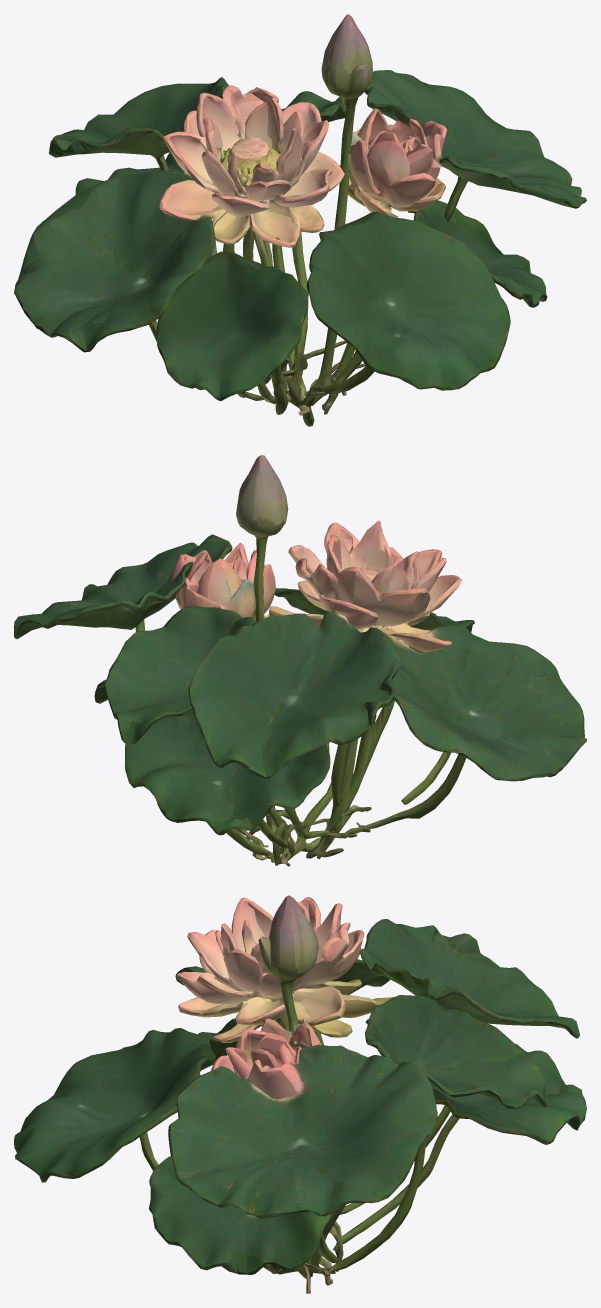
Rendered from ENV-010.glb.
The picture shows the model from 3 angles, top to bottom: view 1: azimuth 30°, elevation 25°; view 2: azimuth 150°, elevation 25°; view 3: azimuth 270°, elevation 25°; orthographic projection. The views are drawn at different scales.
Parts seen in each view (by area): view 1: world; view 2: world; view 3: world.
Part boxes in pixels (<box>): world: <box>14,14,586,426</box>; world: <box>14,455,586,866</box>; world: <box>14,895,586,1293</box>.
Bounding box in the file's own units: 0.65 × 0.4694 × 0.6084.
Materials: 1 (1 with a texture image).
